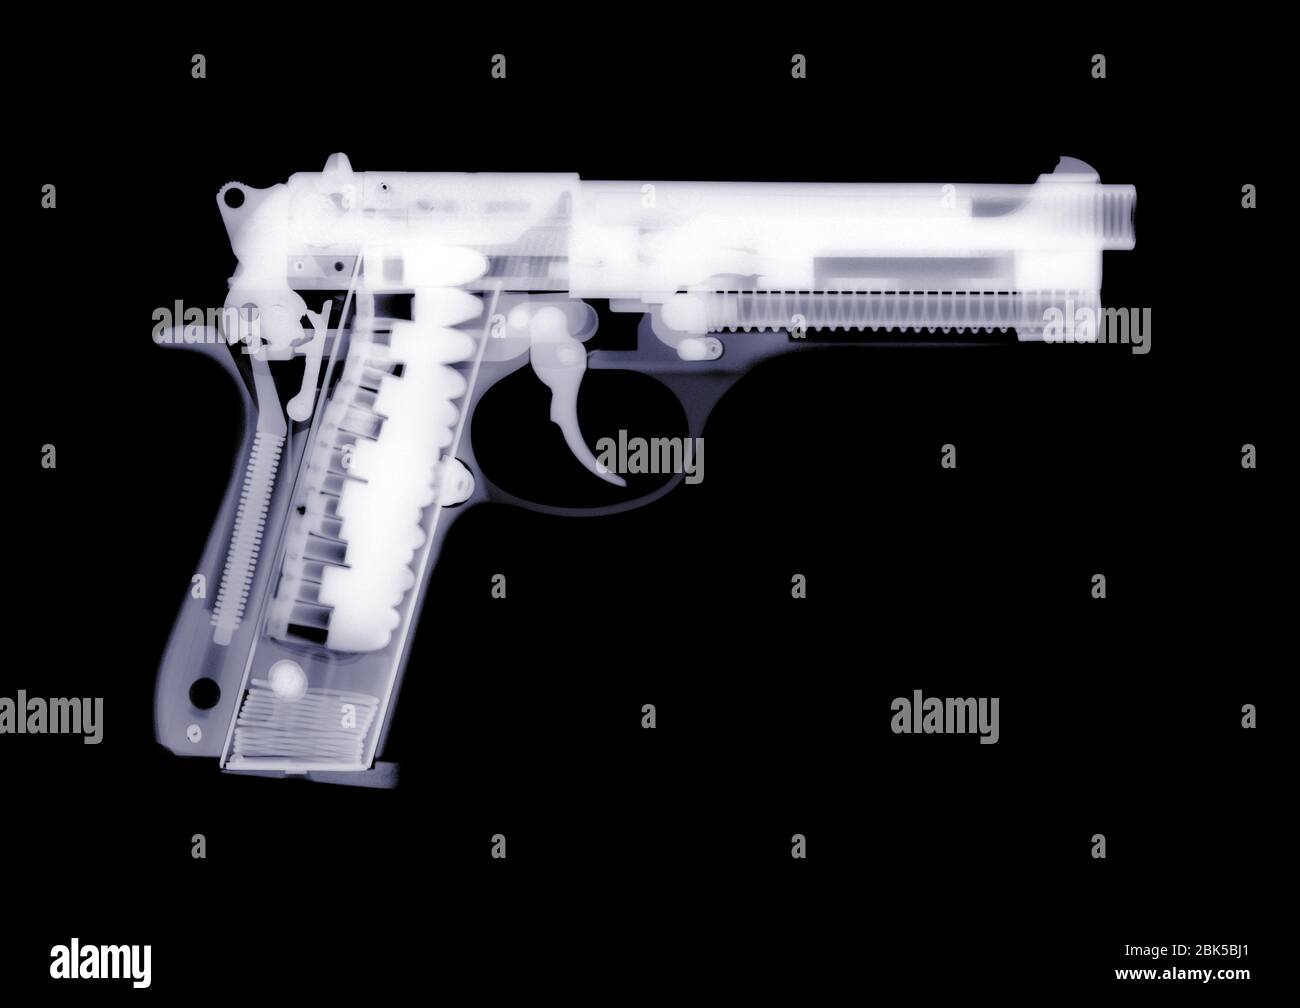gun: (148, 146, 1170, 802)
